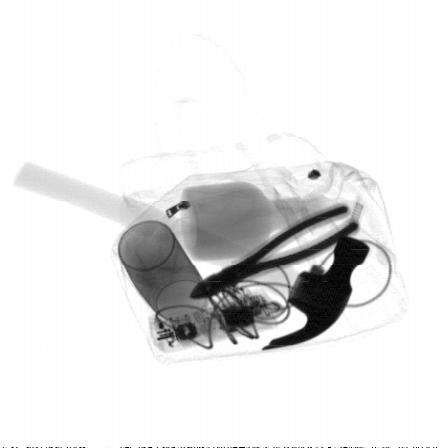Hammer: (12, 163, 371, 350)
Pliers: (188, 201, 362, 300)
